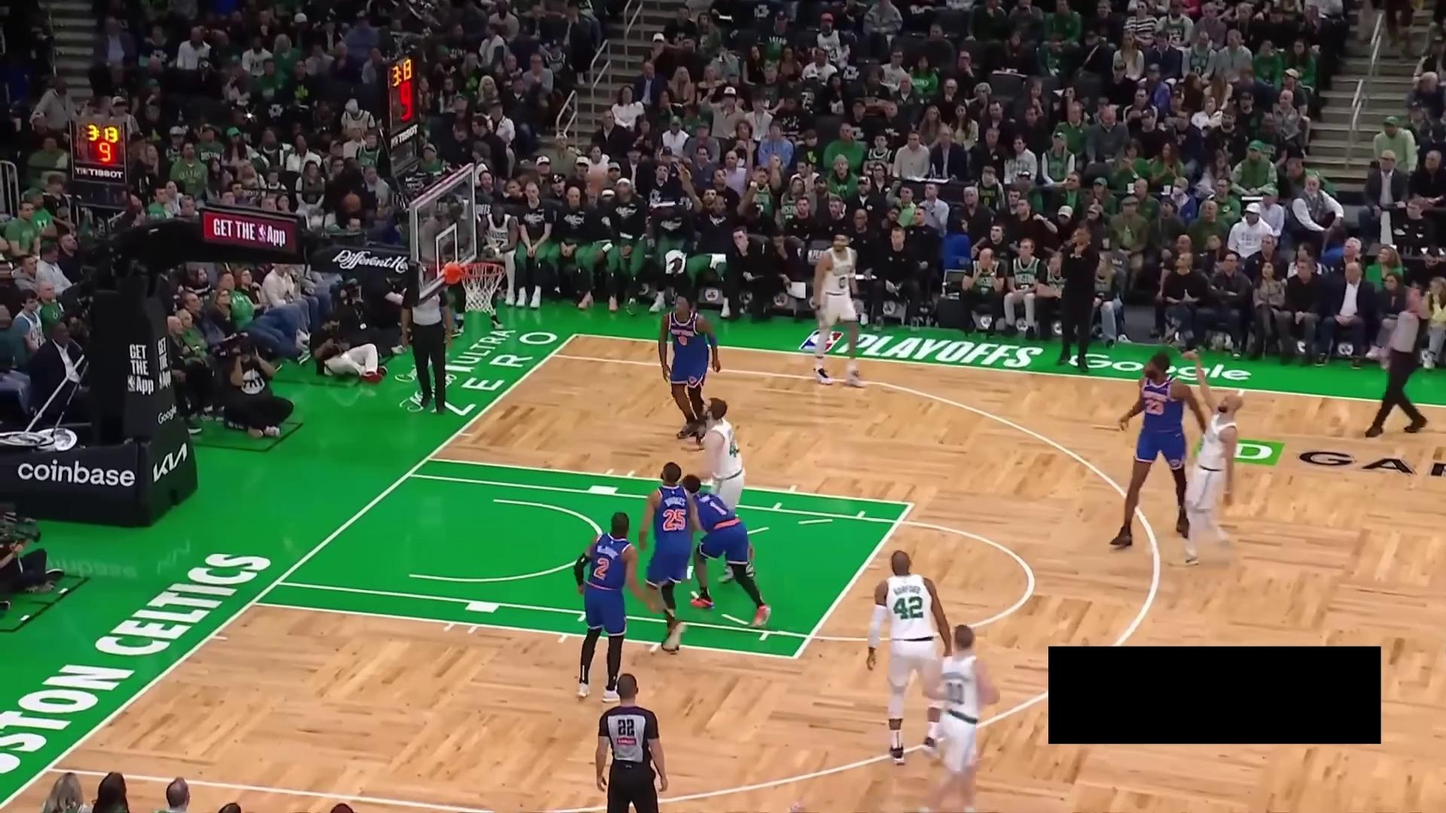ball: (586, 166, 612, 192)
number: (893, 594, 925, 621), (663, 507, 688, 533), (593, 557, 611, 580), (707, 499, 727, 518), (1145, 399, 1166, 415), (838, 274, 847, 290), (678, 334, 689, 347)
player: (1107, 347, 1209, 552), (864, 547, 959, 767), (1167, 345, 1246, 569), (567, 507, 655, 705), (917, 621, 1002, 813), (679, 468, 776, 628), (628, 455, 697, 654), (808, 227, 869, 389), (658, 292, 722, 446), (693, 392, 751, 511)
referee: (590, 667, 670, 813), (1363, 281, 1436, 440), (397, 276, 458, 420)
rim: (458, 262, 511, 279)
